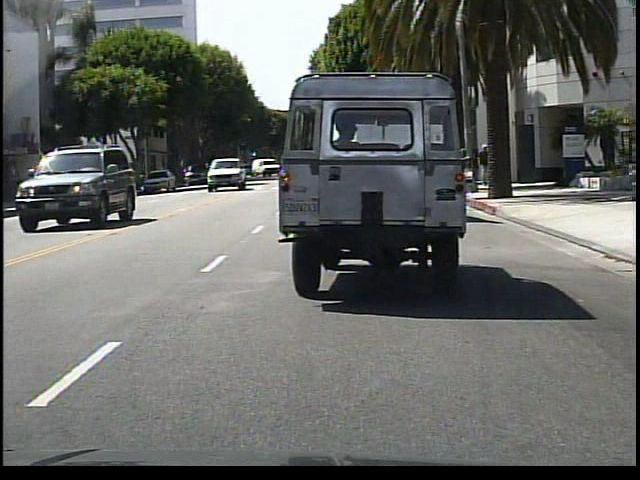person: (477, 144, 490, 184)
